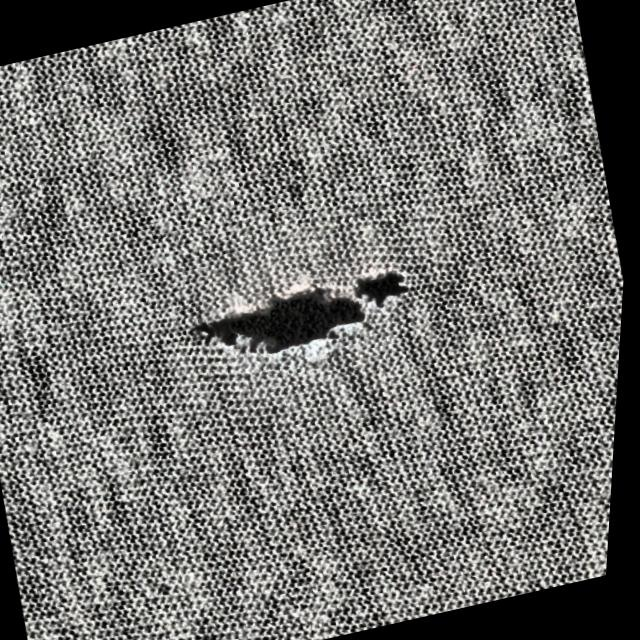Hole: (130, 177, 484, 450)
